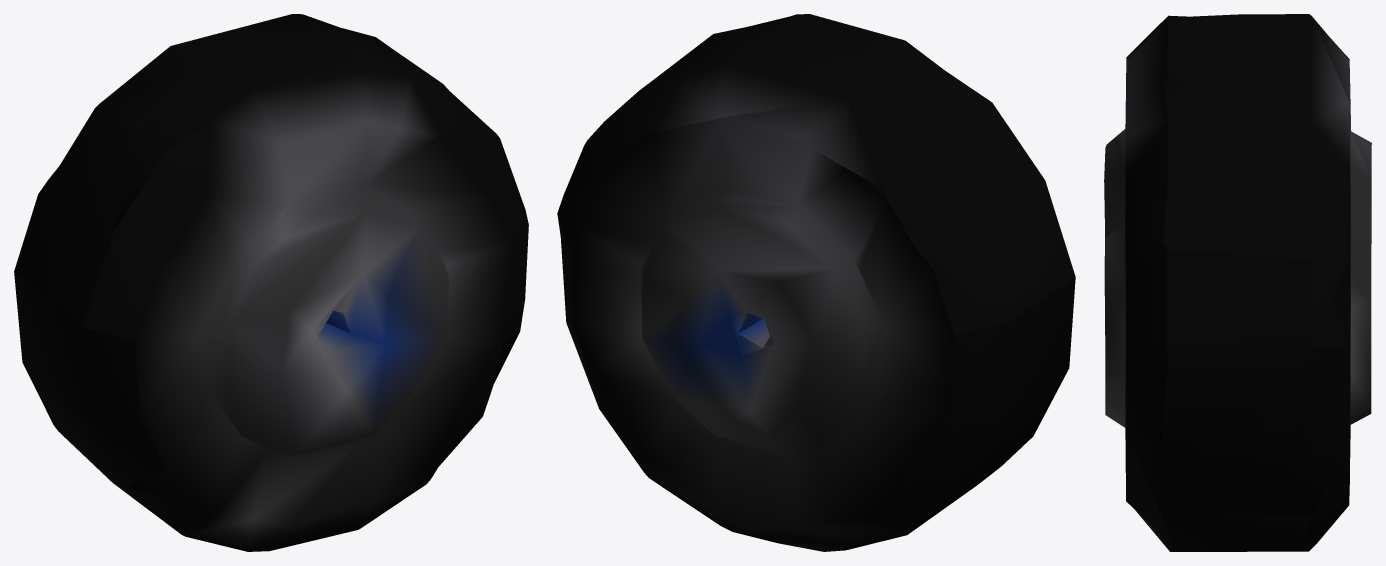
The model's file is wheel_source.glb.
3 renders of one model, left to right at view 1: azimuth 30°, elevation 25°; view 2: azimuth 150°, elevation 25°; view 3: azimuth 270°, elevation 25°, orthographic. The views are drawn at different scales.
Parts seen in each view (by area): view 1: geometry_0; view 2: geometry_0; view 3: geometry_0.
Part boxes in pixels (x1,y1,x2,y2): geometry_0: (14, 14, 528, 551); geometry_0: (557, 14, 1075, 551); geometry_0: (1104, 14, 1371, 551).
Bounding box in the file's own units: 0.9981 × 1 × 0.507.
1 material, 1 textured.
